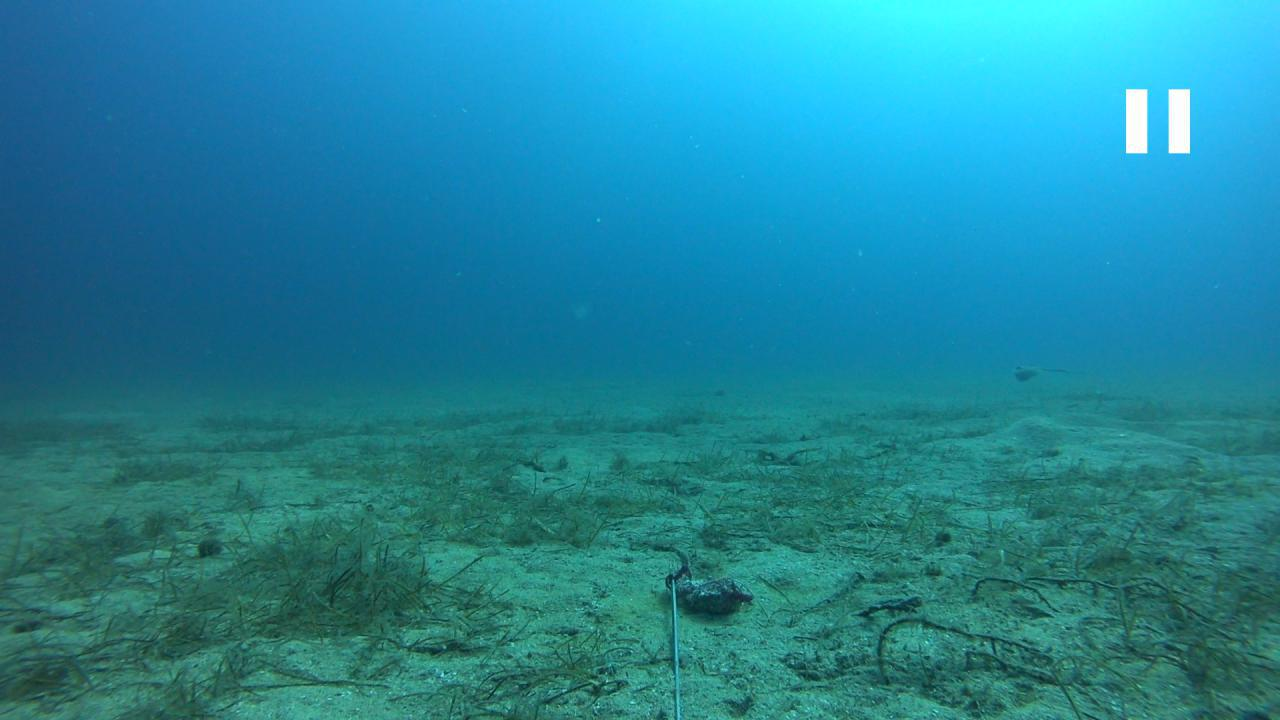dasyatis: (1012, 362, 1081, 381)
